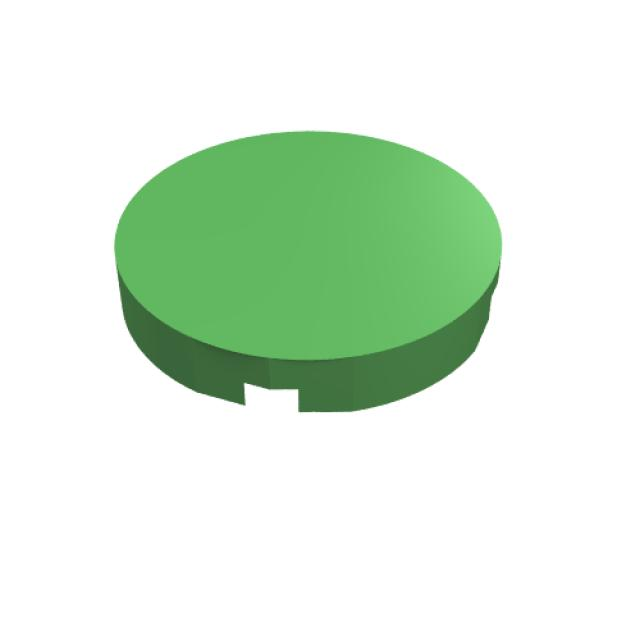Green_Small: (113, 129, 504, 415)
